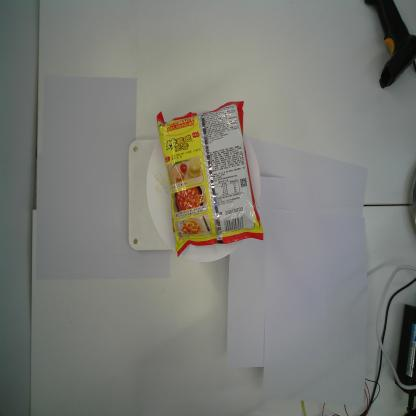Instant Noodles: (155, 99, 264, 259)
